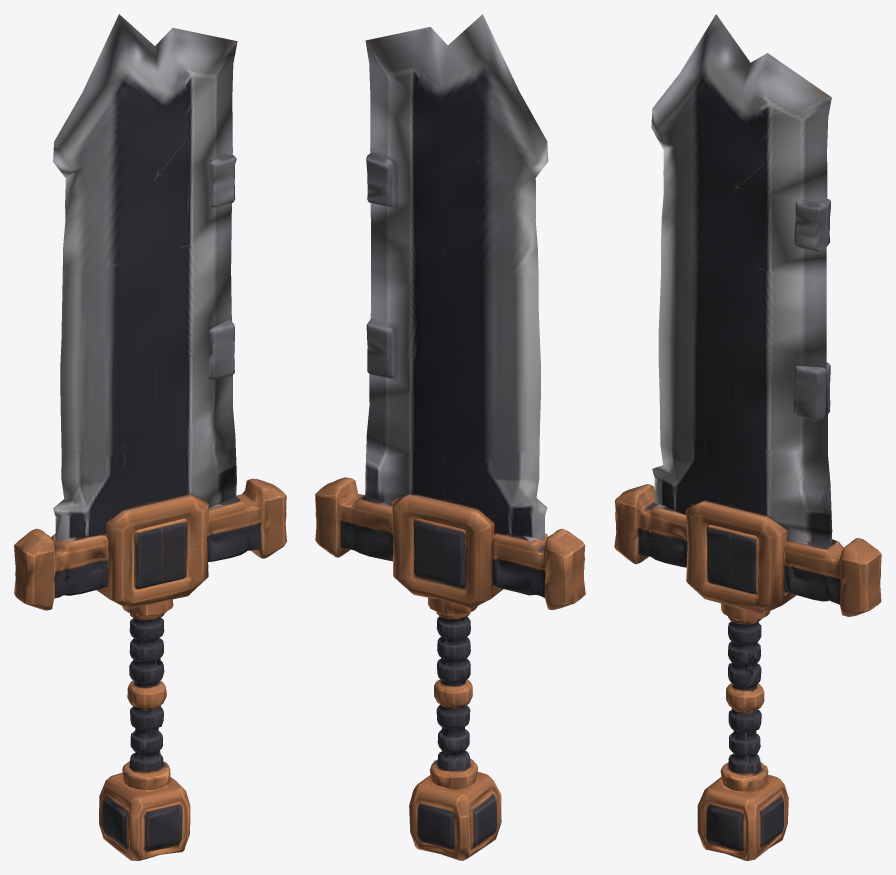
File: 27_铁堡破城剑.fbx
3 views of the same model, side by side, from view 1: azimuth 30°, elevation 25°; view 2: azimuth 150°, elevation 25°; view 3: azimuth 330°, elevation 25° (orthographic).
Parts seen in each view (by area): view 1: Mesh_0; view 2: Mesh_0; view 3: Mesh_0.
Boxes of the visible parts, box(x1,y1,x2,y2) form: Mesh_0: box(14, 14, 286, 860); Mesh_0: box(315, 14, 585, 860); Mesh_0: box(614, 14, 881, 860).
Size of the model in its own units: 64.49 by 200 by 17.47.
1 material, 1 textured.
